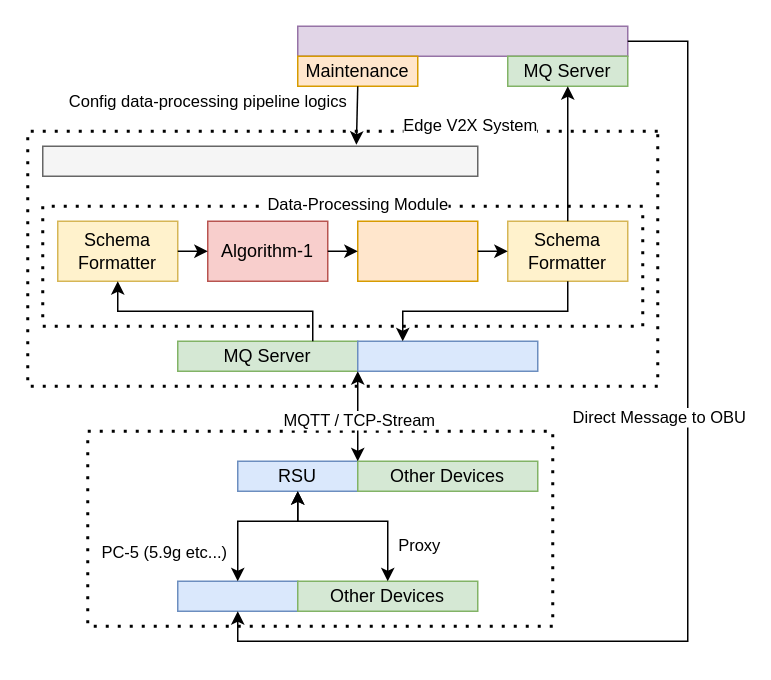
Image size: 771x680. Some labels were removed from this diagram. Here are the shapes that lost their labels. From the top down, the centre of each, then its label:
At point (462, 40): "Cloud V2X System".
At point (259, 160): "OpenAPI".
At point (417, 250): "Algorithm-N".
At point (447, 355): "TCP Server".
At point (237, 595): "OBU".
